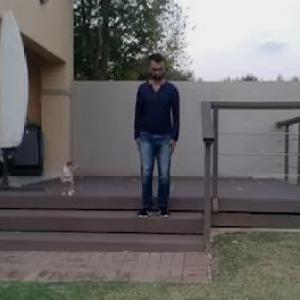follow: (136, 48, 182, 228)
